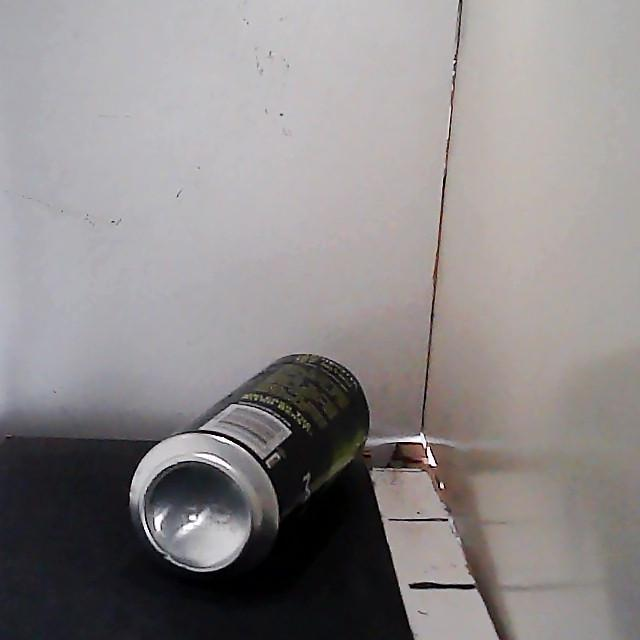metal: (130, 354, 369, 576)
